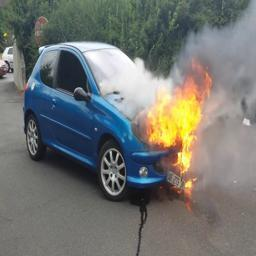fire: (148, 57, 211, 173)
